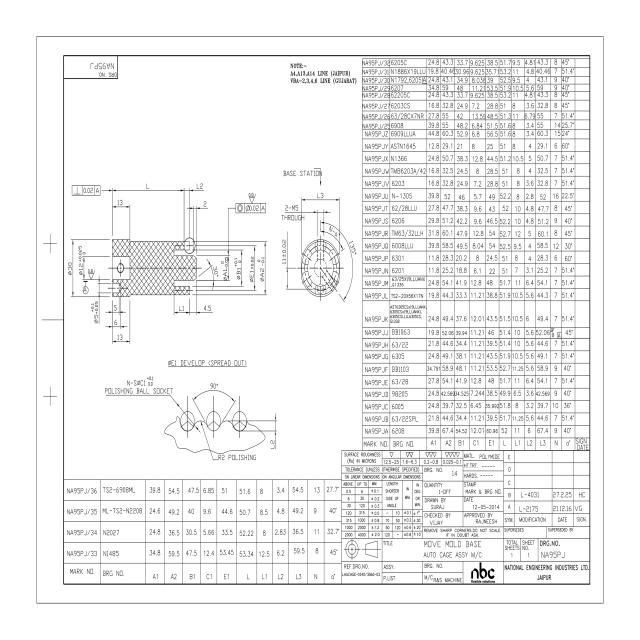dimension: (321, 219, 358, 304), (197, 420, 257, 464), (191, 380, 238, 404), (280, 203, 333, 223), (314, 224, 348, 253), (110, 184, 186, 196), (198, 255, 218, 292), (66, 237, 76, 299), (280, 237, 290, 292), (300, 191, 341, 204), (259, 240, 268, 297), (248, 244, 258, 291), (221, 247, 233, 284), (234, 248, 245, 288), (124, 374, 155, 388), (188, 302, 214, 318), (267, 411, 277, 451), (90, 296, 102, 326), (77, 244, 86, 283), (110, 198, 132, 213), (105, 318, 128, 331), (184, 181, 205, 195), (186, 199, 208, 212), (110, 334, 132, 346), (172, 304, 191, 317), (106, 303, 122, 316)
